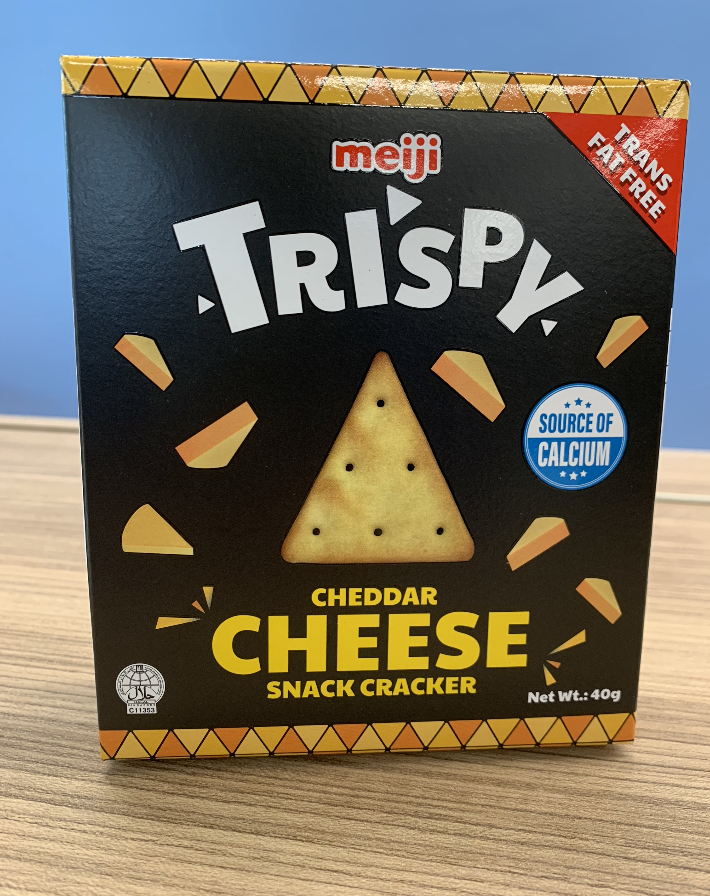crackers_50g: (110, 109, 636, 717)
